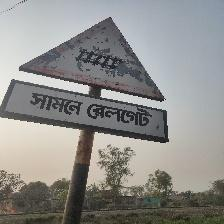Rail-crossing: (0, 12, 176, 147)
